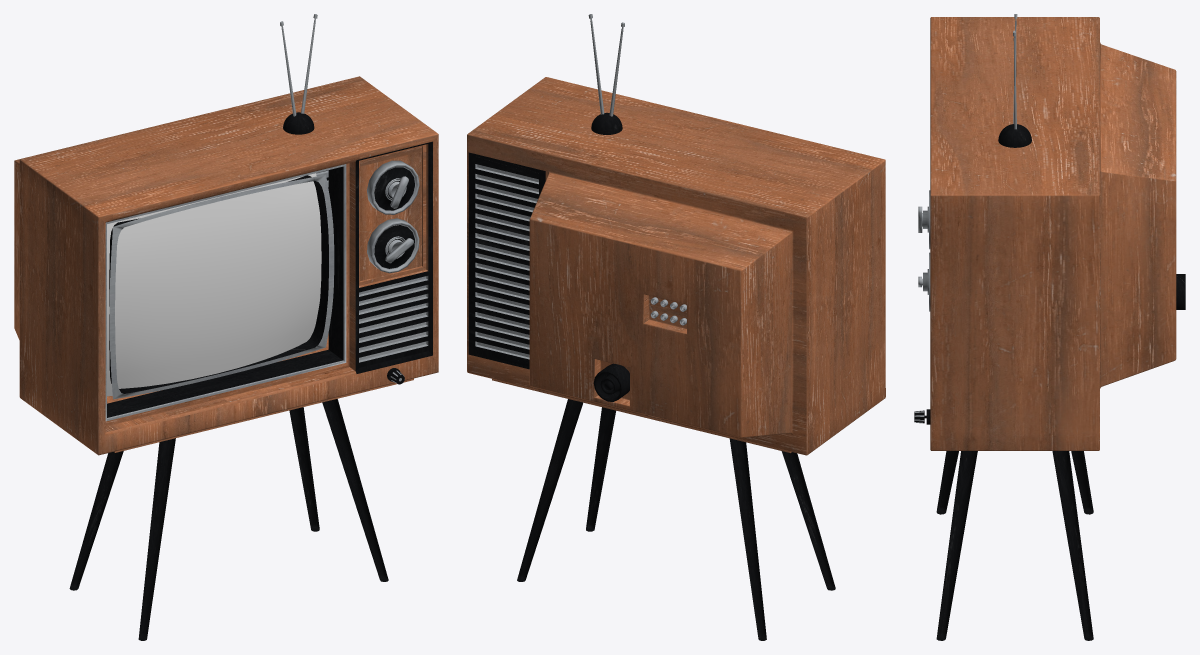
3 views of the same model, side by side, from view 1: azimuth 30°, elevation 25°; view 2: azimuth 150°, elevation 25°; view 3: azimuth 270°, elevation 25° (orthographic). The views are drawn at different scales.
Parts seen in each view (by area): view 1: Cube.001, Cube, Cube.003, Cylinder.001, Sphere, Cube.002; view 2: Cube.001, Cube.003, Sphere, Cylinder.005, Cube.002; view 3: Cube.001, Cube.003, Sphere, Cylinder.001.
Boxes of the visible parts, x1,y1,x2,y2 form: Cube.001: [14, 76, 438, 455]; Cube: [107, 173, 321, 396]; Cube.003: [69, 399, 388, 640]; Cylinder.001: [367, 160, 419, 273]; Sphere: [280, 14, 317, 134]; Cube.002: [114, 378, 413, 452]; Cube.001: [467, 77, 885, 455]; Cube.003: [517, 399, 835, 640]; Sphere: [588, 14, 624, 134]; Cylinder.005: [593, 363, 629, 401]; Cube.002: [492, 379, 791, 452]; Cube.001: [930, 17, 1176, 450]; Cube.003: [936, 451, 1093, 640]; Sphere: [998, 14, 1031, 147]; Cylinder.001: [918, 190, 930, 311].
Size of the model in its own units: 502 by 773 by 323.
